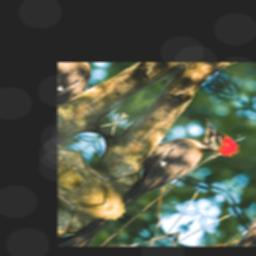Woodpecker: (99, 107, 246, 225)
